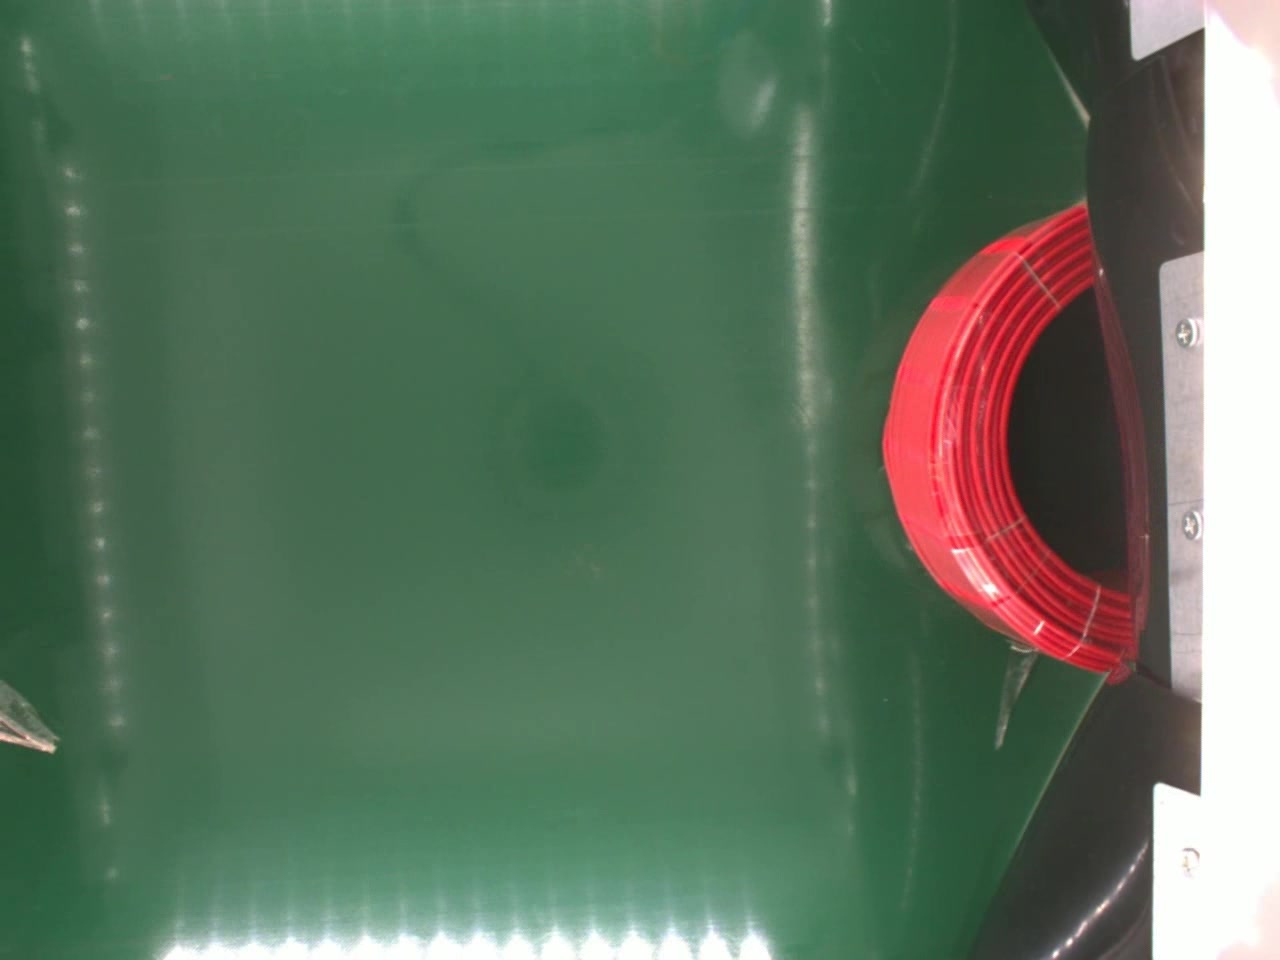red: (881, 201, 1132, 675)
